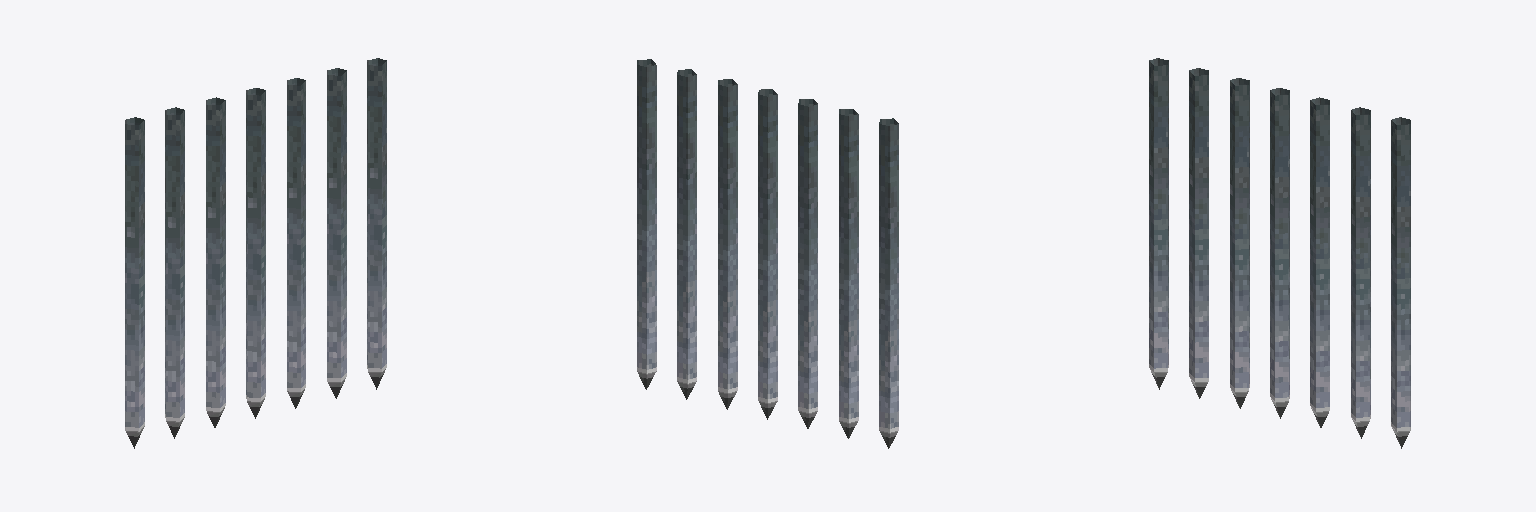
3 renders of one model, left to right at view 1: azimuth 30°, elevation 25°; view 2: azimuth 150°, elevation 25°; view 3: azimuth 330°, elevation 25°, orthographic.
Visible parts, largest first — view 1: bars_metal; view 2: bars_metal; view 3: bars_metal.
Part boxes in pixels (x1,y1,x2,y2): bars_metal: (125,58,386,448); bars_metal: (637,59,898,448); bars_metal: (1149,58,1410,448).
Bounding box in the file's own units: 259 × 310 × 15.84.
Materials: 1 (1 with a texture image).